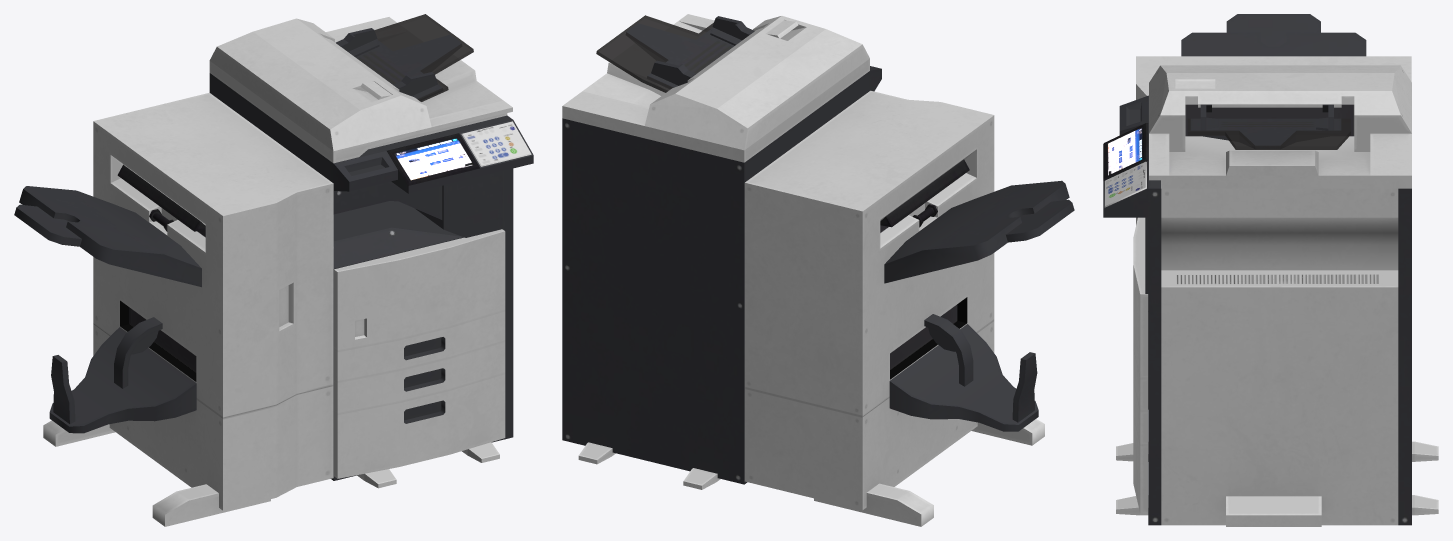
File: copy_machine.glb
The picture shows the model from 3 angles, left to right: view 1: azimuth 30°, elevation 25°; view 2: azimuth 150°, elevation 25°; view 3: azimuth 270°, elevation 25°; orthographic projection. The views are drawn at different scales.
Parts seen in each view (by area): view 1: CopyMachineBody (×2); view 2: CopyMachineBody (×2); view 3: CopyMachineBody (×2).
Boxes of the visible parts, x1,y1,x2,y2 form: CopyMachineBody (×2): (14,14,533,526); CopyMachineBody (×2): (562,14,1074,526); CopyMachineBody (×2): (1103,14,1438,526).
Size of the model in its own units: 2 by 1.55 by 1.22.
Materials: 2 (2 with a texture image).
